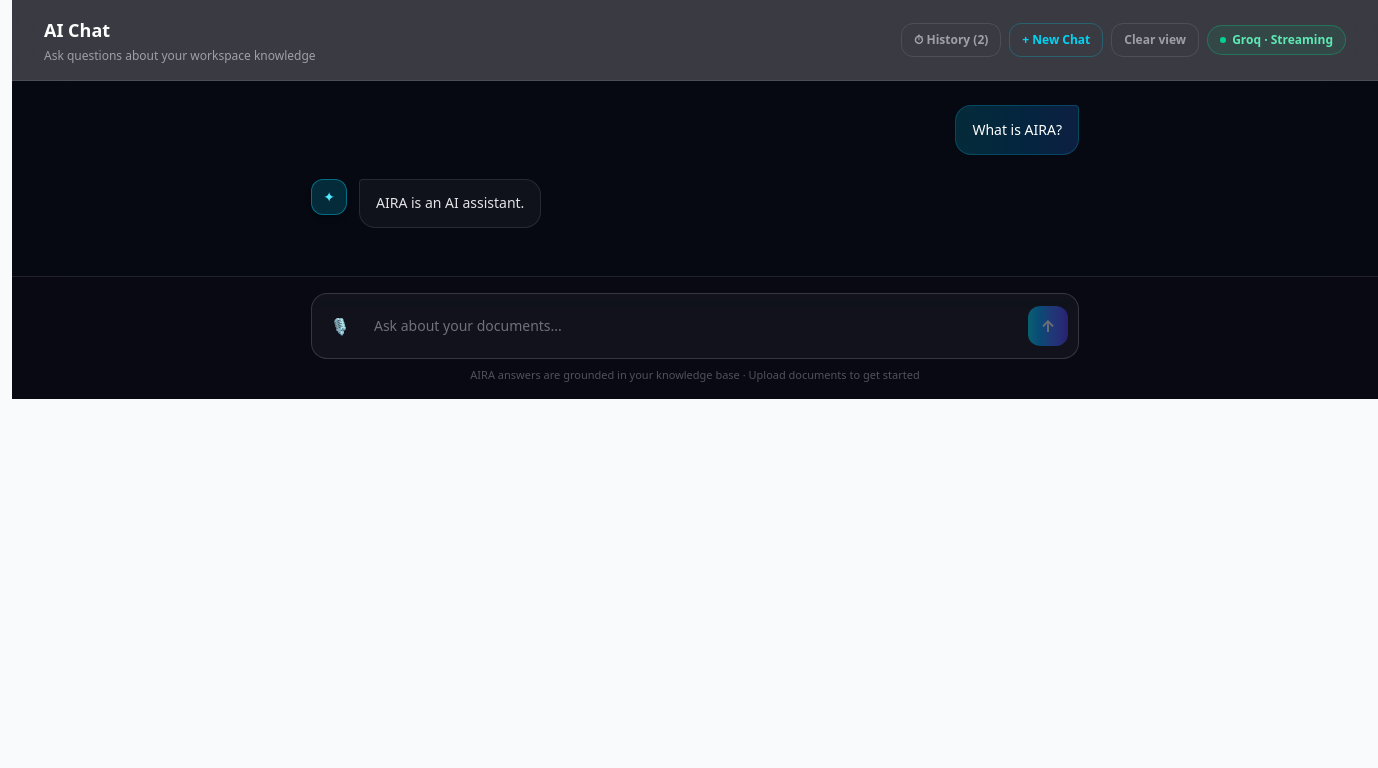
Test: ChatPage — History Sidebar › clicking a conversation in the sidebar loads its messages
Expected: the text "What is AIRA?" is shown, left=972, top=118, right=1062, bottom=142
Note: Open sidebar
Step 1. Click the button "⏱ History (2)" → (951, 40), box left=901, top=23, right=1001, bottom=57
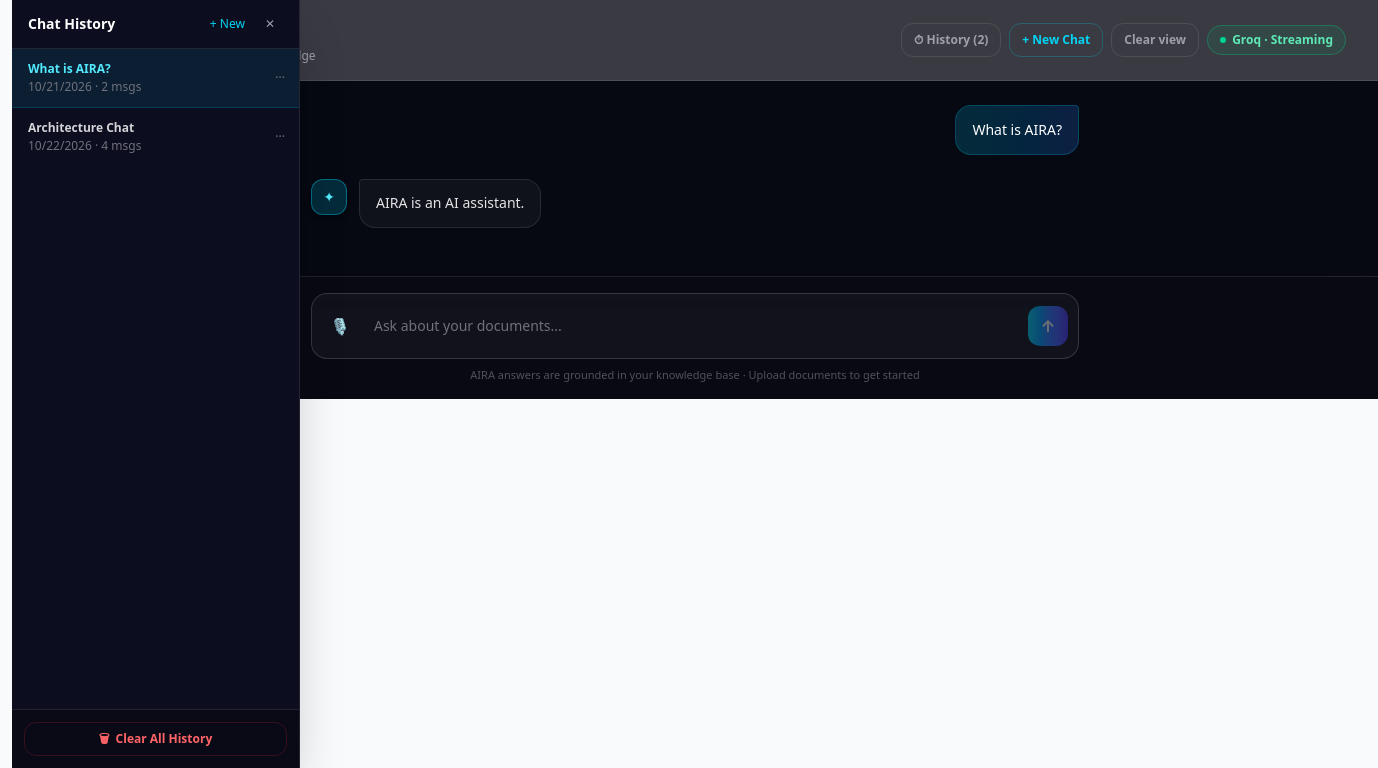
Expected: the text "Architecture Chat" is shown
Note: Click CONV_B — the button wrapping the conv title
Step 2. Click the text "Architecture Chat" → (81, 128), box left=28, top=119, right=134, bottom=136
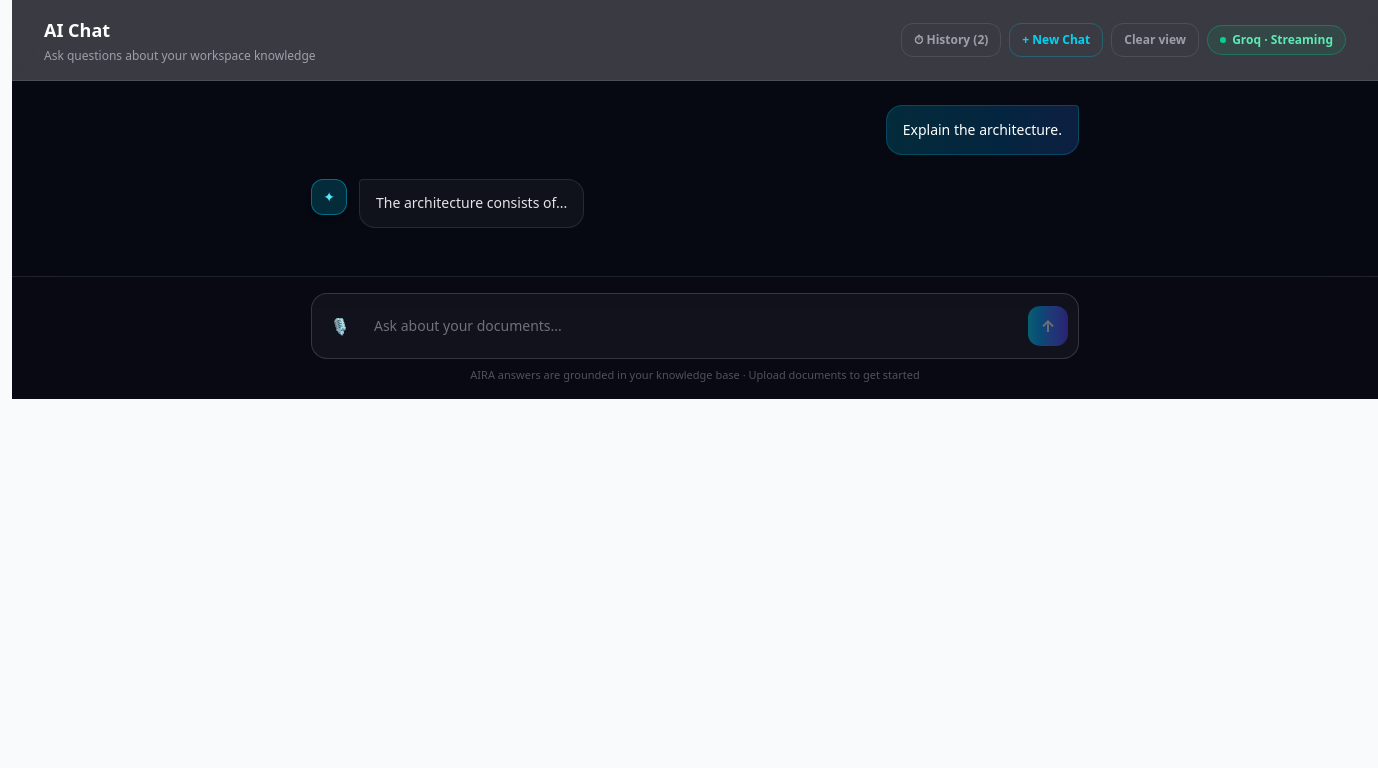
Expected: the text "Explain the architecture." is shown, left=903, top=118, right=1062, bottom=142
